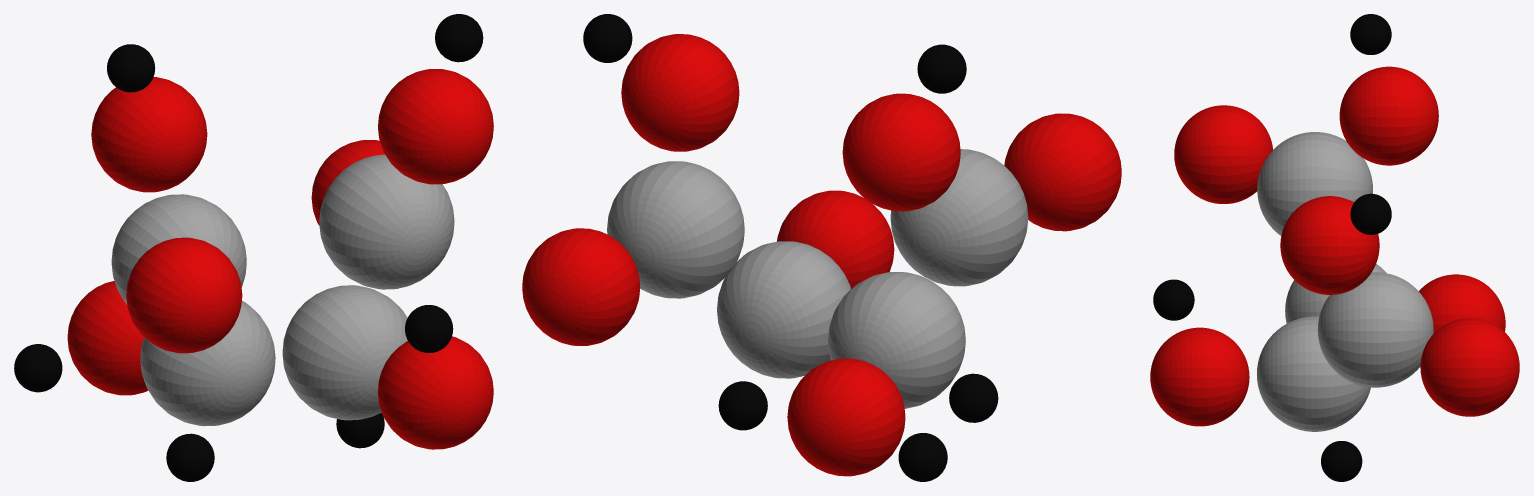
File: Tartaric Acid.glb
3 views of the same model, side by side, from view 1: azimuth 30°, elevation 25°; view 2: azimuth 150°, elevation 25°; view 3: azimuth 270°, elevation 25° (orthographic). The views are drawn at different scales.
Parts seen in each view (by area): view 1: world; view 2: world; view 3: world.
Part boxes in pixels (x1,y1,x2,y2): world: [14, 14, 493, 481]; world: [522, 14, 1121, 481]; world: [1150, 14, 1519, 481].
Bounding box in the file's own units: 5.16 × 5 × 4.47.
